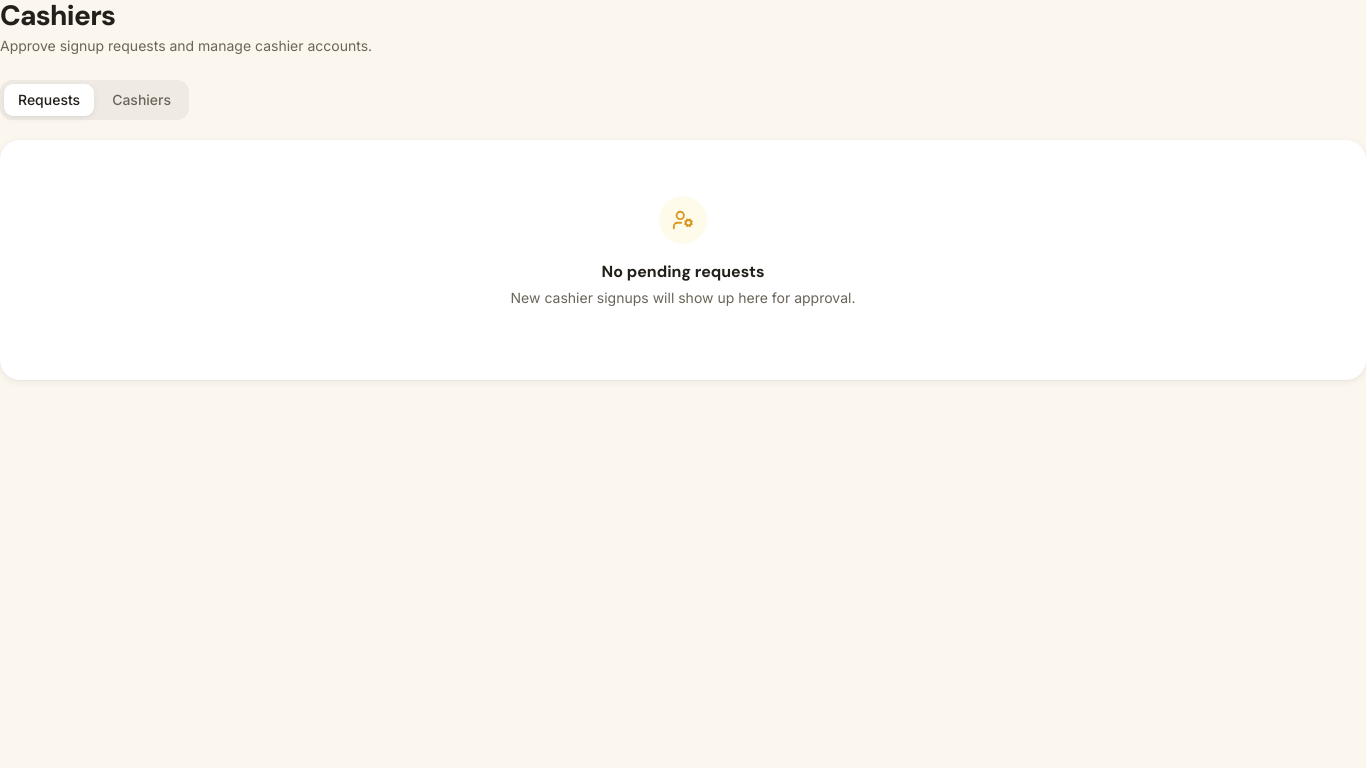
Test: Cashiers page — one cashier per branch › tells the Admin that suspending keeps history and stock, and surfaces a blocked reactivation
Later steps or results of the test are not shown.
Click the tab "Cashiers".
click(142, 100)  # box [98,84,185,116]
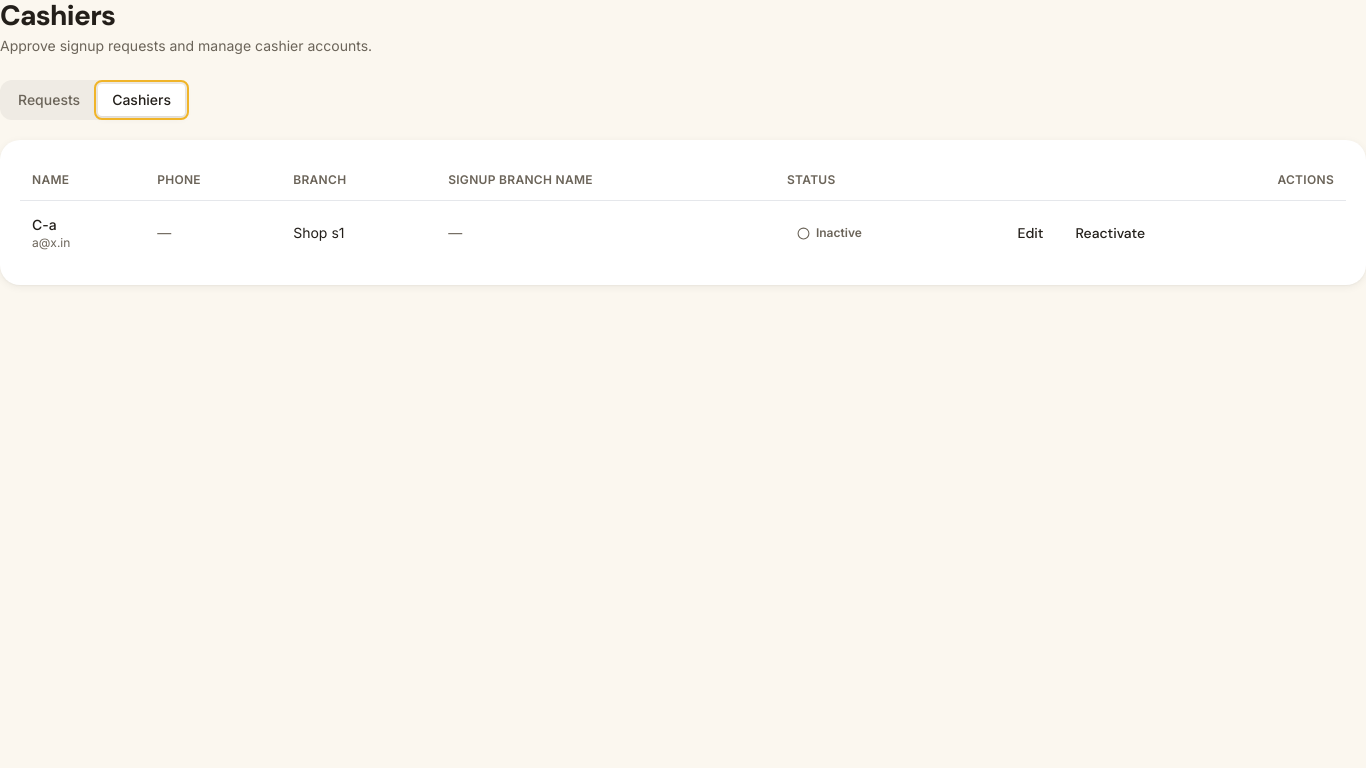
Click the button "Reactivate".
click(1110, 233)  # box [1064,215,1157,251]
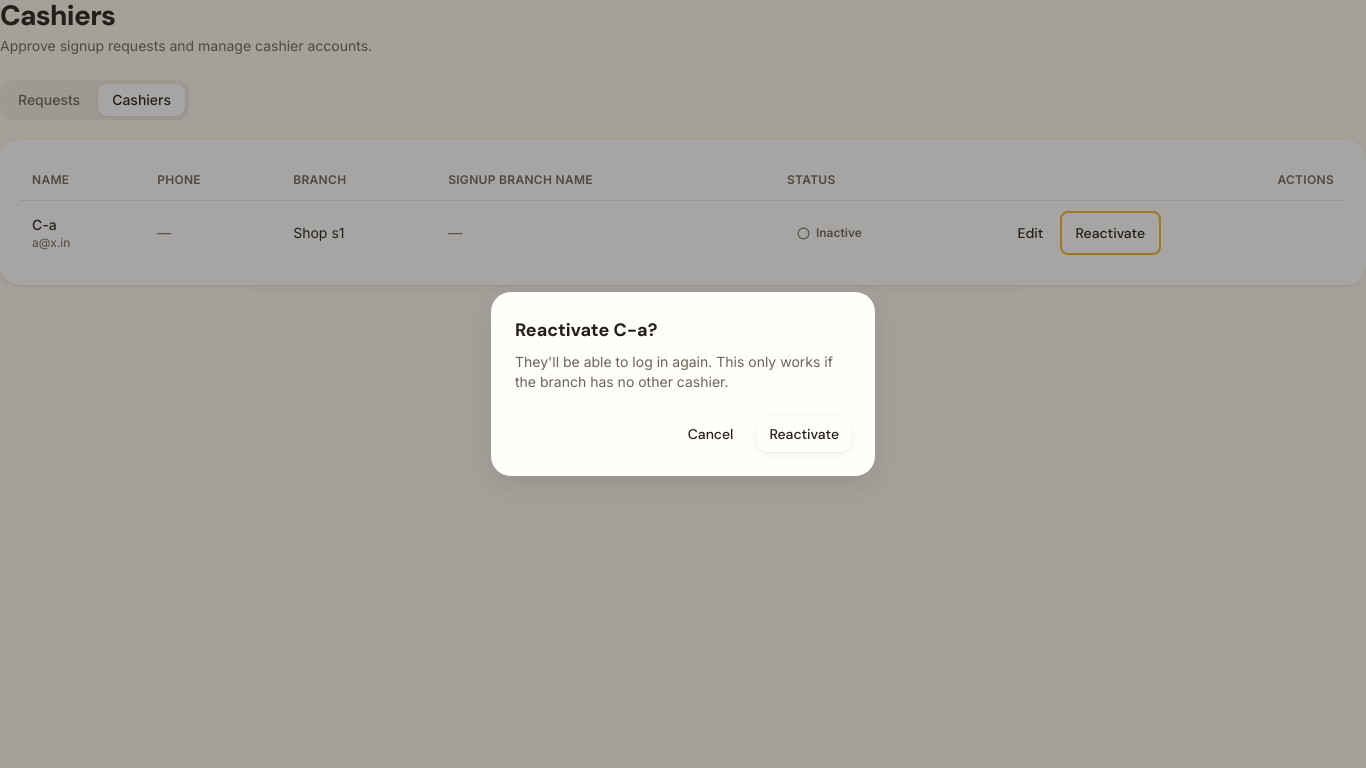
expect the dialog shows "no other cashier": met, box [515,353,833,390]
